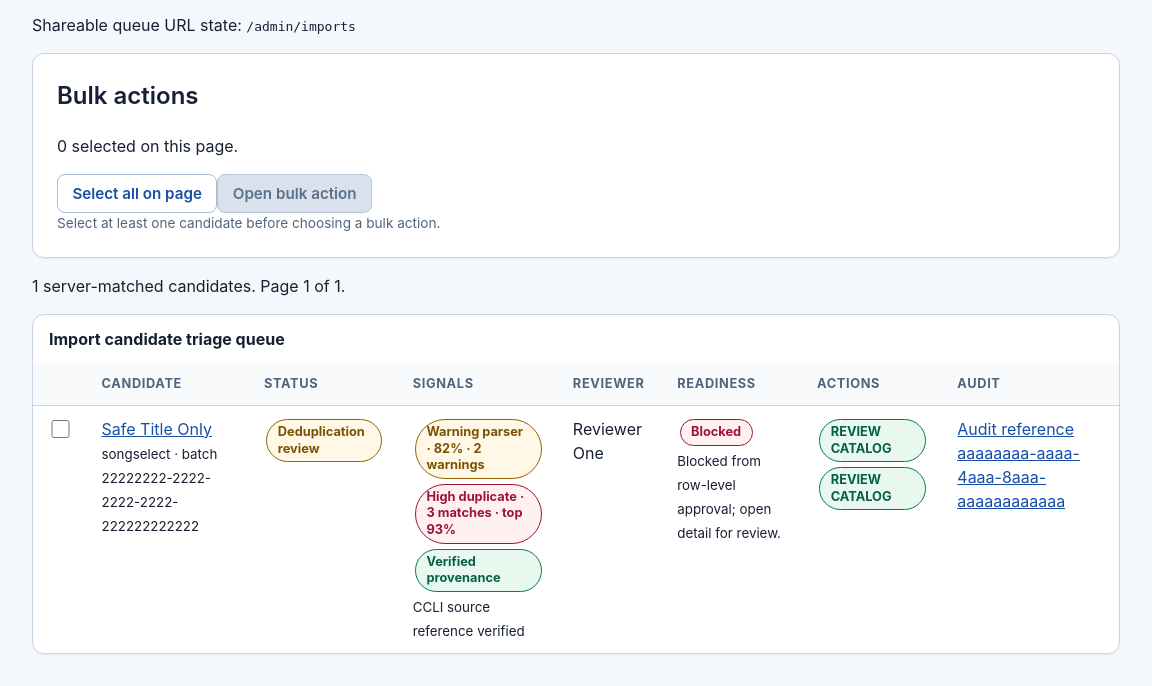
Test case: import candidate queue › allows selecting candidates and submitting a bulk action
The image size is (1152, 686).
(page scrolled)
Click the checkbox named "Select candidate Safe Title Only" at (61, 429), box top-left (51, 420), bottom-right (70, 438)
(page scrolled)
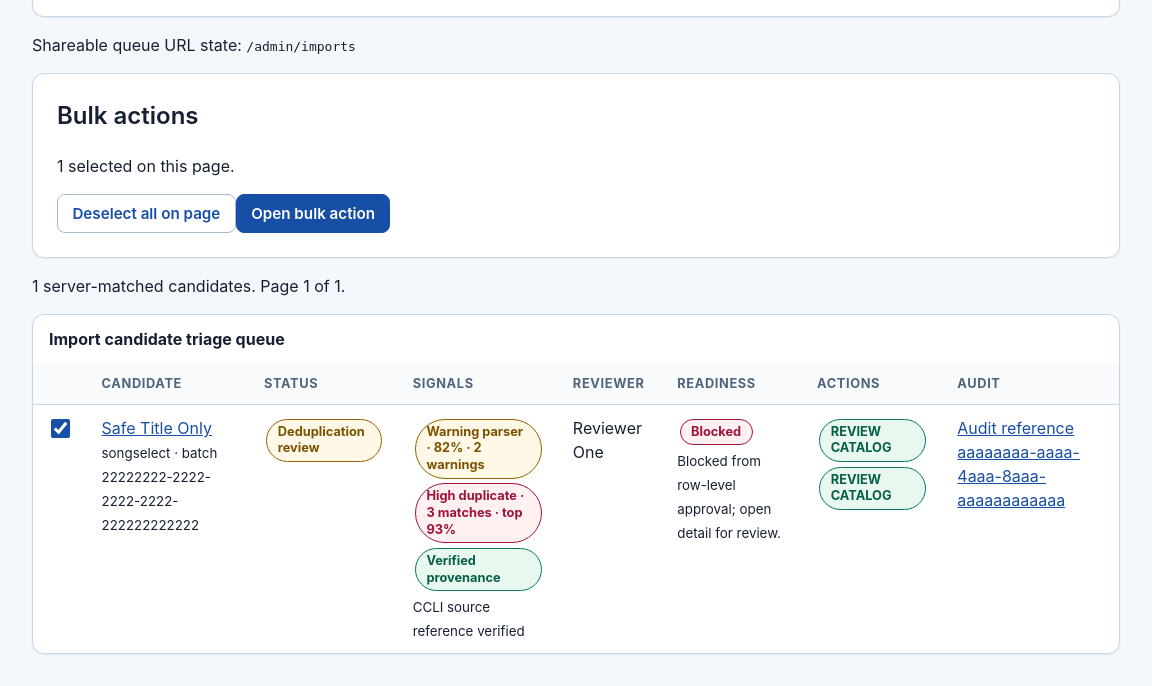
Check: the text "1 selected" is shown, box top-left (57, 156), bottom-right (235, 176)
Click the button "Open bulk action" at (313, 213), box top-left (236, 194), bottom-right (390, 233)
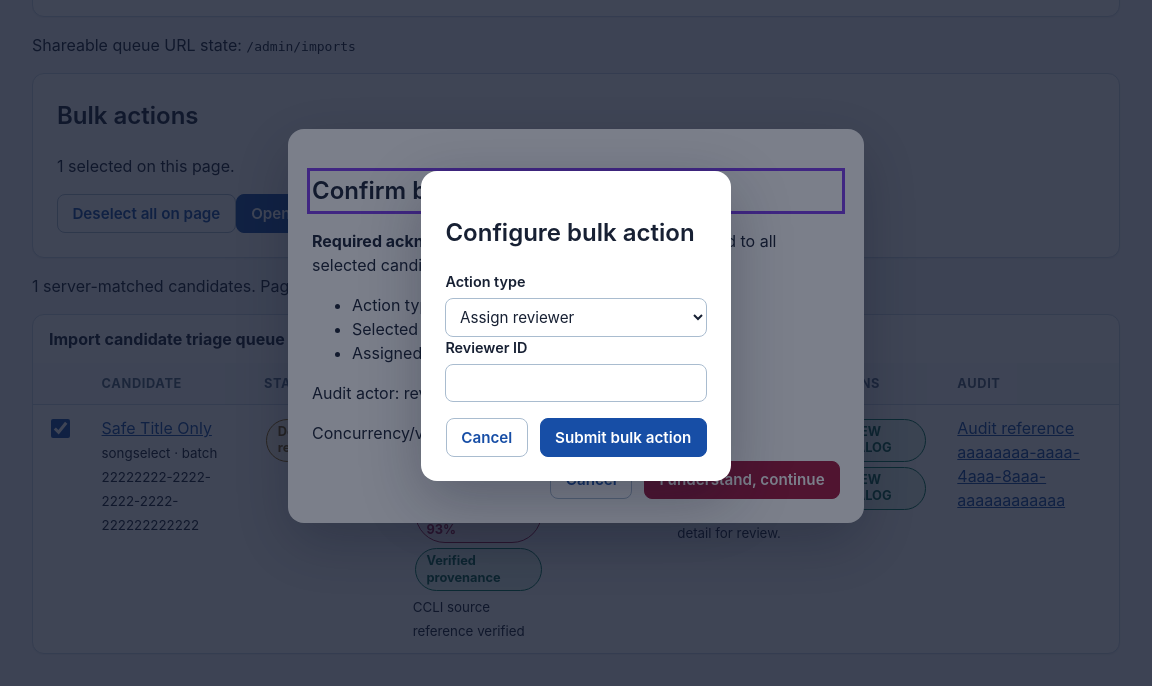
Check: the text "Configure bulk action" is shown, box top-left (445, 215), bottom-right (707, 251)
Check: the dialog is shown, box top-left (421, 171), bottom-right (731, 481)
Select "Reject duplicate" in the dropdown labelled "Action type" at (576, 317), box top-left (445, 298), bottom-right (707, 337)
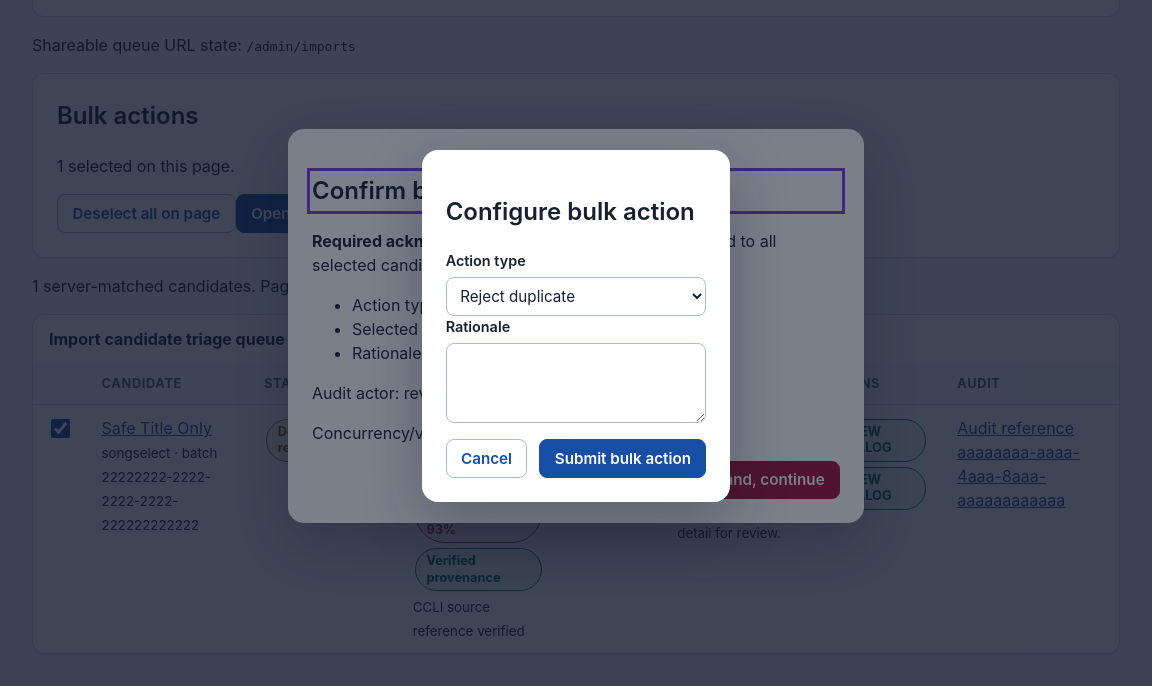
Type "Bulk reject for duplicate review" into the text box labelled "Rationale" at (576, 383), box top-left (446, 343), bottom-right (706, 423)
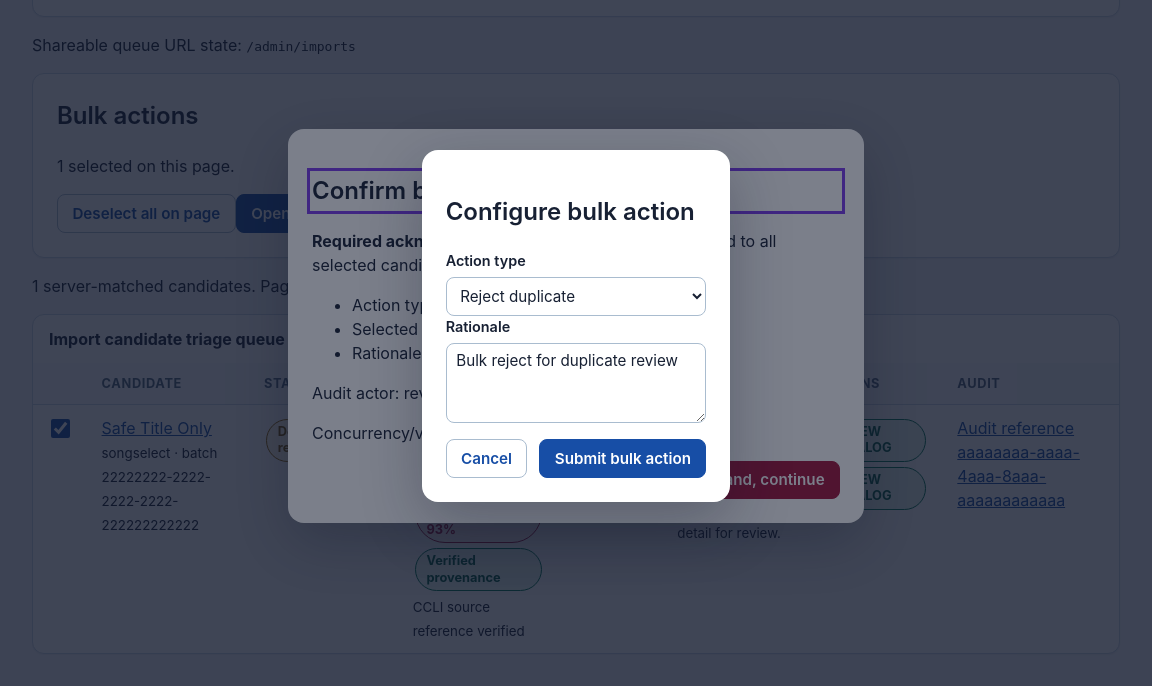
Check: the button "Submit bulk action" is shown
Click the button "Submit bulk action" at (623, 458), box top-left (539, 439), bottom-right (706, 478)
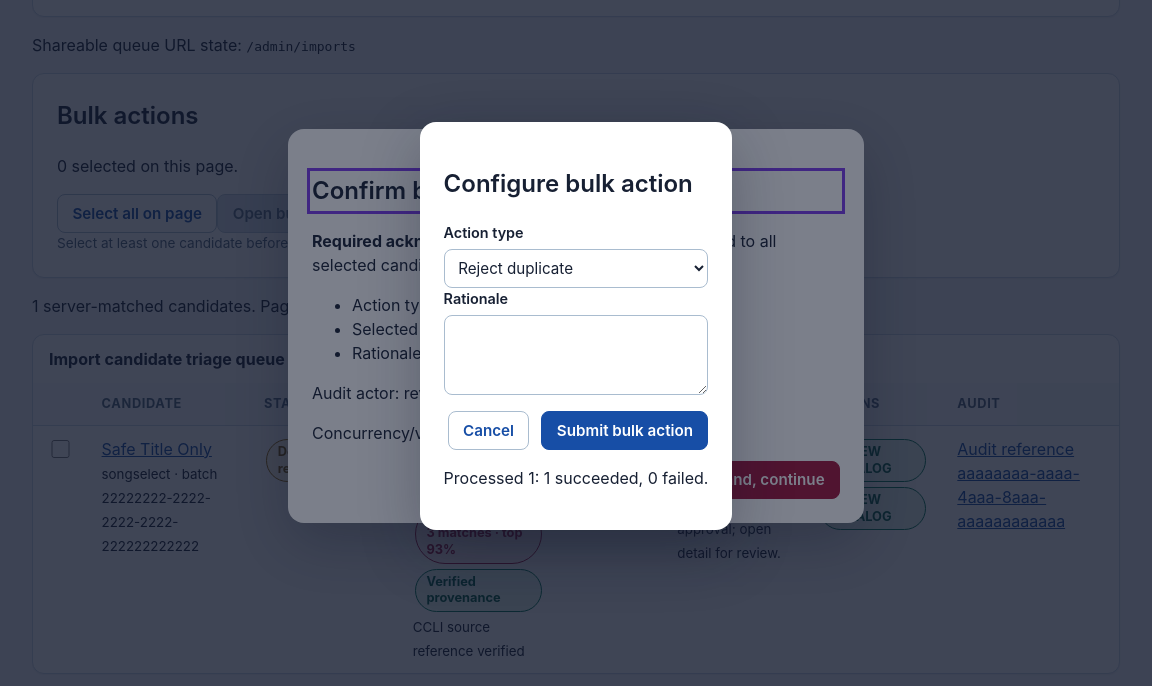
Check: the text "1 succeeded" is shown, box top-left (444, 466), bottom-right (708, 490)
